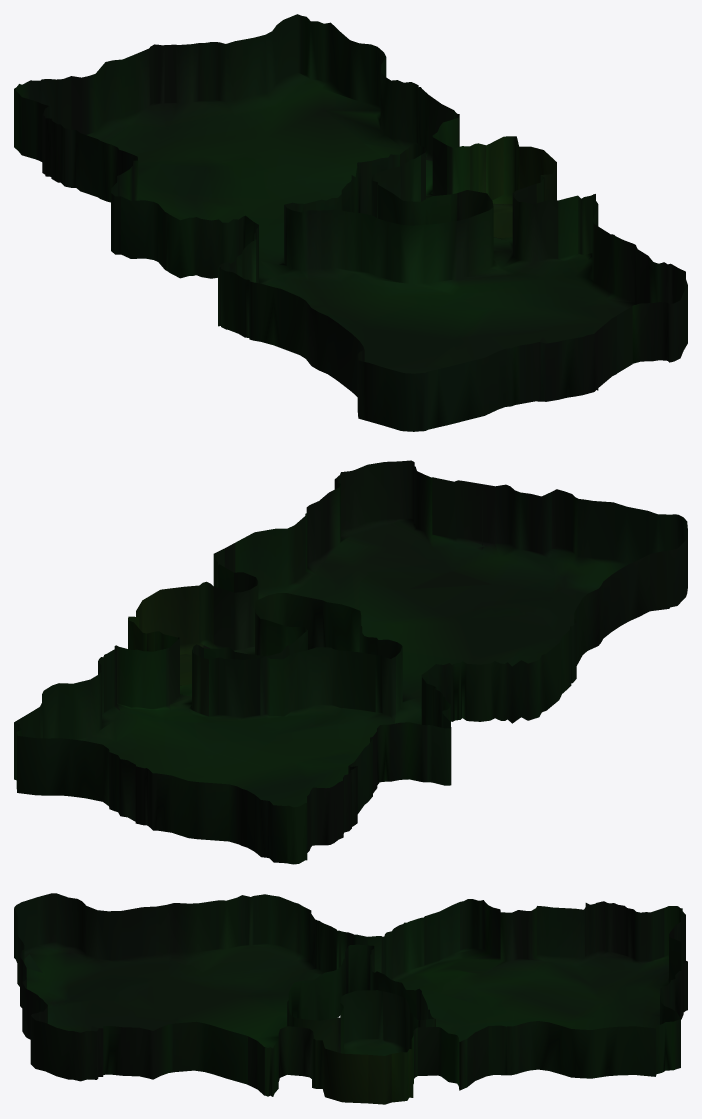
3 views of the same model, one above another, from view 1: azimuth 30°, elevation 25°; view 2: azimuth 150°, elevation 25°; view 3: azimuth 270°, elevation 25° (orthographic). The views are drawn at different scales.
Visible parts, largest first — view 1: v9_Collision; view 2: v9_Collision; view 3: v9_Collision.
Part boxes in pixels (x1=…): v9_Collision: x1=14, y1=14, x2=687, y2=431; v9_Collision: x1=14, y1=460, x2=687, y2=864; v9_Collision: x1=14, y1=893, x2=687, y2=1104.
Size of the model in its own units: 10061 by 2068 by 18832.
